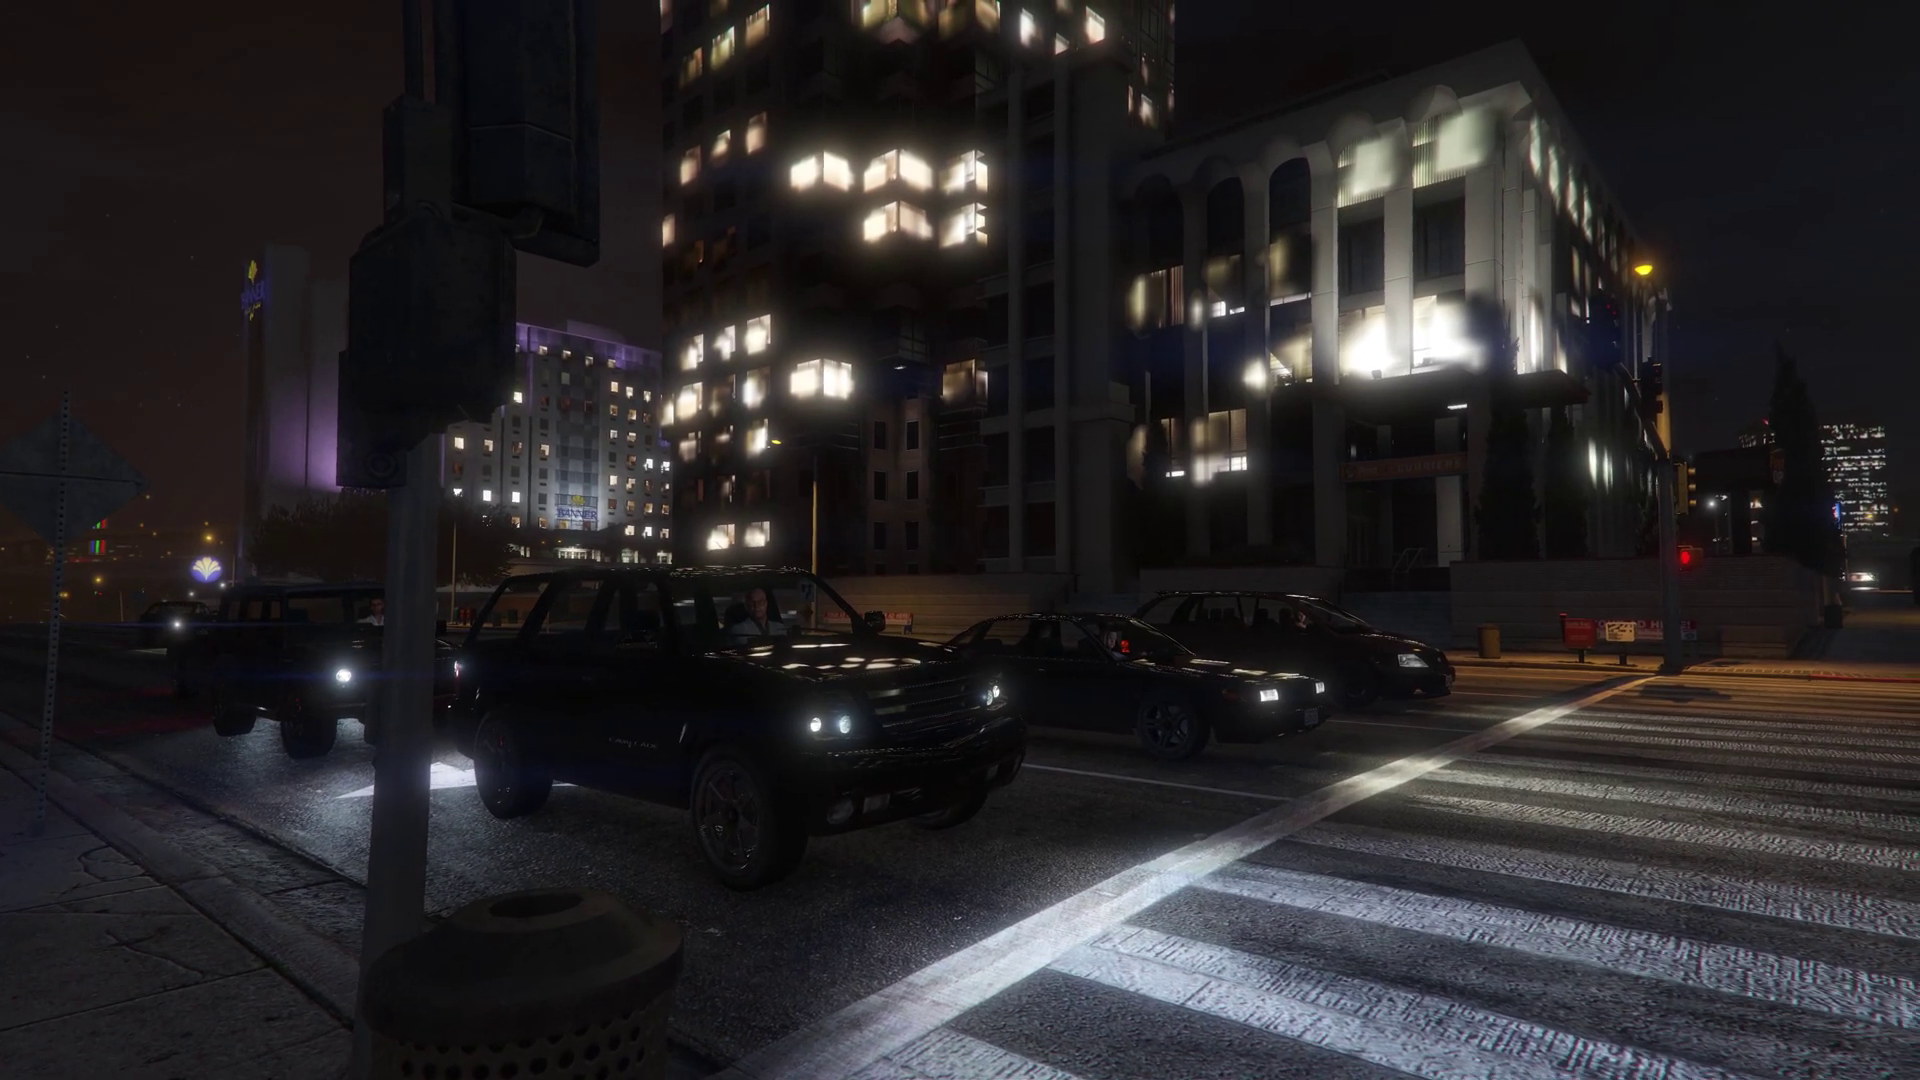car: (458, 570, 1021, 863), (947, 614, 1330, 771), (177, 584, 467, 753), (1139, 591, 1456, 716), (141, 597, 212, 638)
person: (733, 589, 788, 636), (1101, 628, 1129, 661), (357, 597, 387, 628), (1296, 610, 1311, 630)
traffic light: (1591, 289, 1620, 366), (1640, 358, 1664, 426), (1675, 461, 1696, 518), (1679, 545, 1701, 570)
